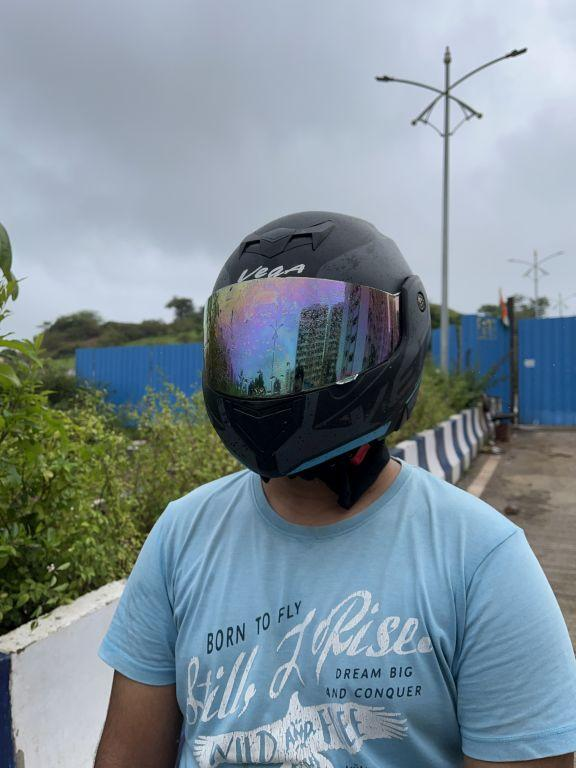helmet: (190, 200, 440, 498)
